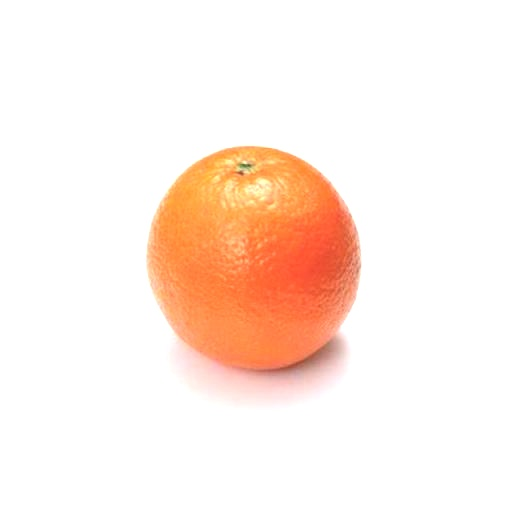fruit: (147, 147, 360, 369)
